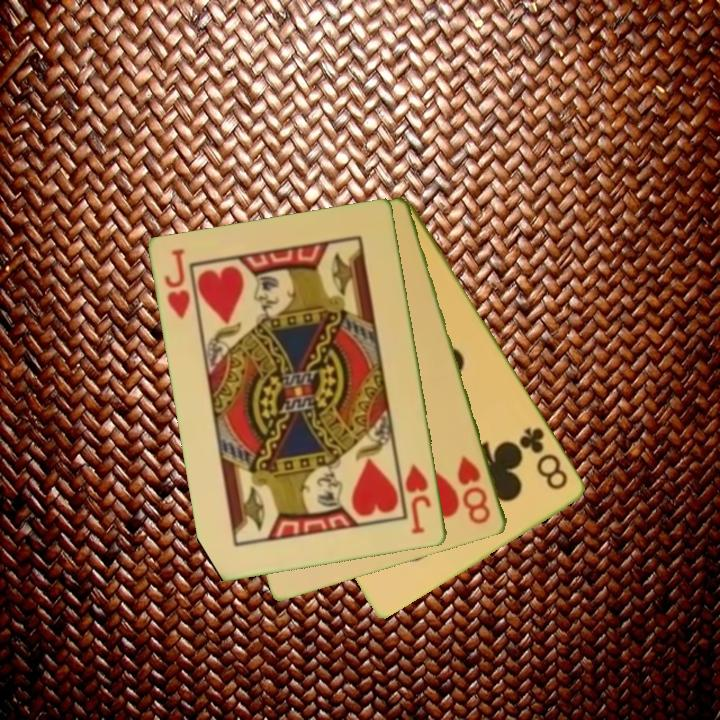8c: (516, 424, 572, 493)
8h: (454, 452, 494, 528)
Jh: (402, 460, 435, 537), (161, 245, 194, 322)
